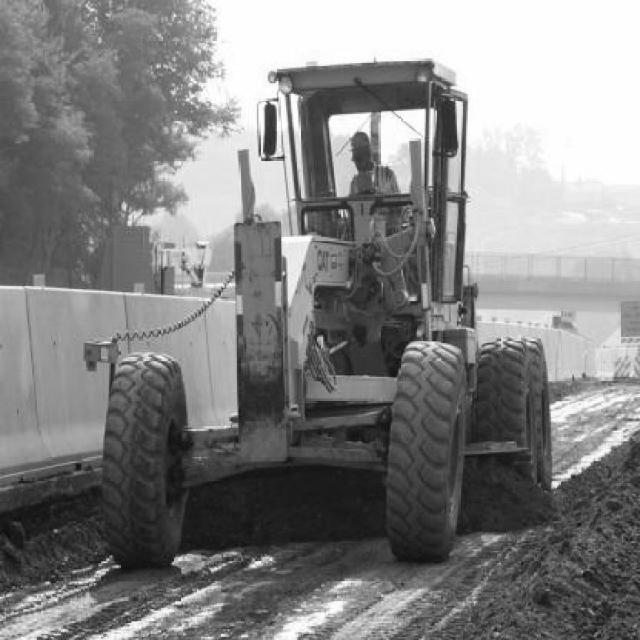Construction Equipment: (83, 59, 557, 570)
